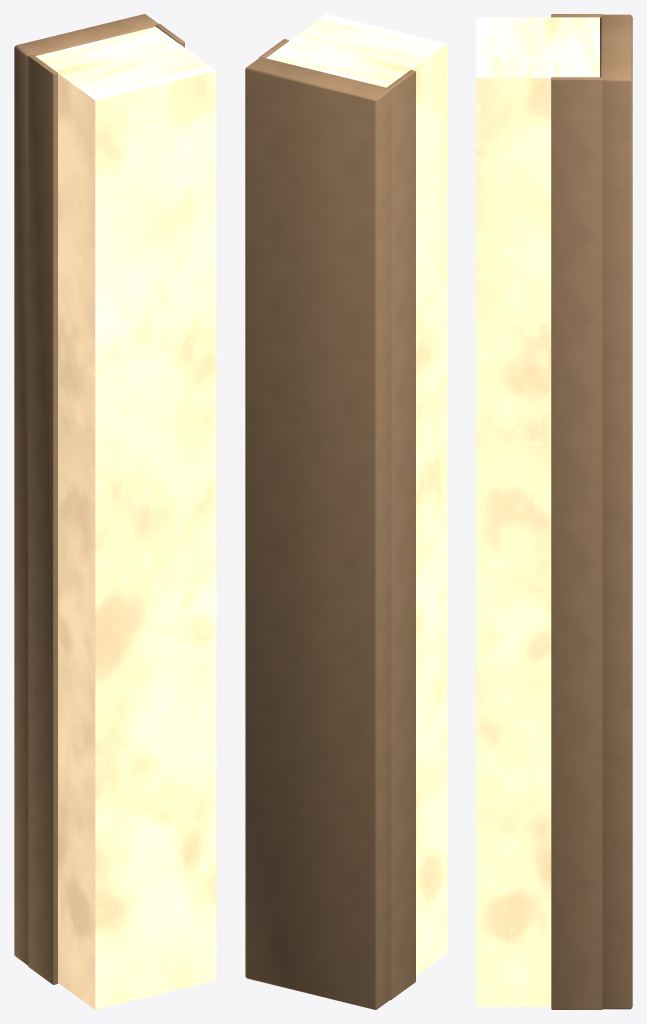
Rendered from linear-alabaster-wall-sconce-copper.glb.
3 renders of one model, left to right at view 1: azimuth 30°, elevation 25°; view 2: azimuth 150°, elevation 25°; view 3: azimuth 270°, elevation 25°, orthographic. The views are drawn at different scales.
Visible parts, largest first — view 1: AlabasterBar, Flange_-1, Channel; view 2: Channel, AlabasterBar, Flange_-1; view 3: AlabasterBar, Flange_1, Channel.
Part boxes in pixels (x1,y1,x2,y2): AlabasterBar: [35, 26, 216, 1009]; Flange_-1: [28, 54, 57, 984]; Channel: [14, 14, 158, 965]; Channel: [245, 57, 391, 1009]; AlabasterBar: [266, 14, 447, 975]; Flange_-1: [387, 70, 415, 1000]; AlabasterBar: [476, 17, 599, 1006]; Flange_1: [551, 77, 602, 1009]; Channel: [600, 14, 632, 1009].
Bounding box in the file's own units: 0.061 × 0.4013 × 0.061.
Materials: 3 (3 with a texture image).
